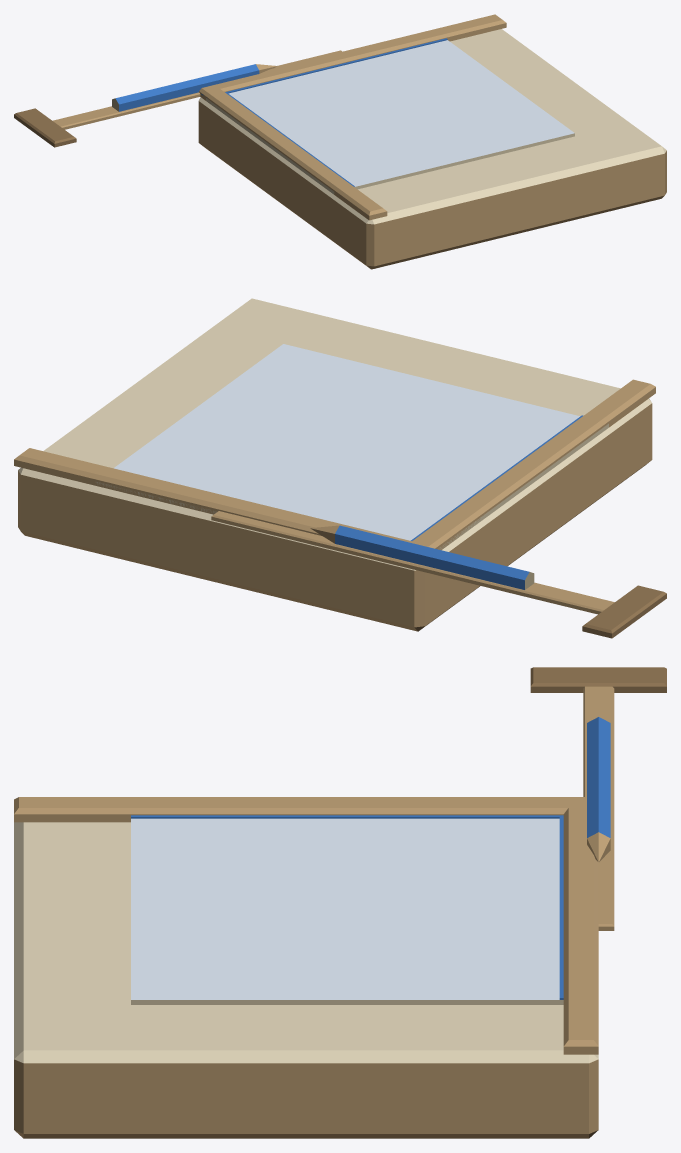
File: table.glb
3 renders of one model, top to bottom at view 1: azimuth 30°, elevation 25°; view 2: azimuth 150°, elevation 25°; view 3: azimuth 270°, elevation 25°, orthographic. The views are drawn at different scales.
Parts seen in each view (by area): view 1: table_corner, sheet_corner, tsquare, pencil; view 2: table_corner, sheet_corner, tsquare, pencil; view 3: table_corner, sheet_corner, tsquare, pencil.
Part boxes in pixels (left/top/right/bottom): table_corner: left=198, top=14, right=666, bottom=269; sheet_corner: left=201, top=38, right=574, bottom=194; tsquare: left=14, top=50, right=341, bottom=147; pencil: left=112, top=64, right=277, bottom=111; table_corner: left=14, top=298, right=655, bottom=631; sheet_corner: left=95, top=344, right=608, bottom=549; tsquare: left=211, top=511, right=666, bottom=638; pencil: left=310, top=525, right=534, bottom=589; table_corner: left=14, top=797, right=598, bottom=1138; sheet_corner: left=131, top=815, right=563, bottom=1004; tsquare: left=530, top=667, right=666, bottom=930; pencil: left=587, top=717, right=610, bottom=862.
Size of the model in its own units: 4.61 by 0.64 by 3.35.
1 material, 1 textured.
